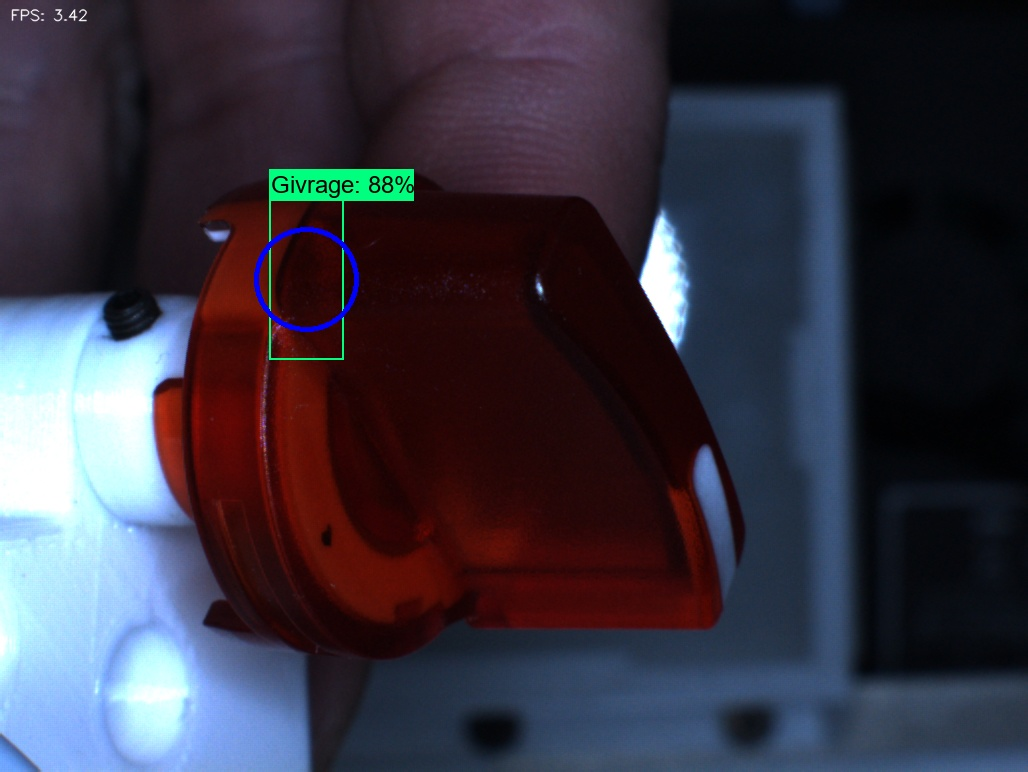PointNoir: (287, 485, 365, 590)
